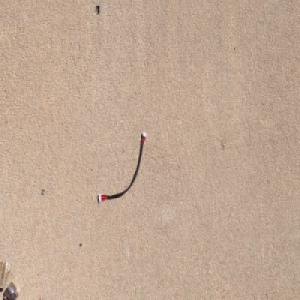Wire: (97, 130, 147, 205)
